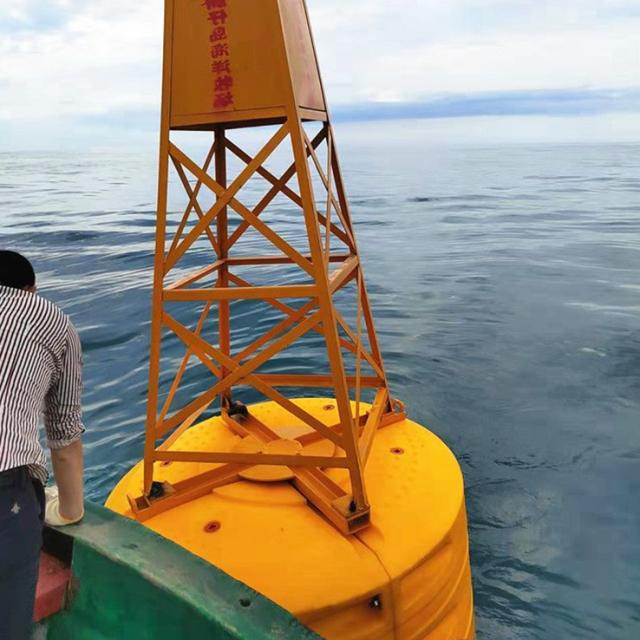buoy: (106, 0, 474, 640)
